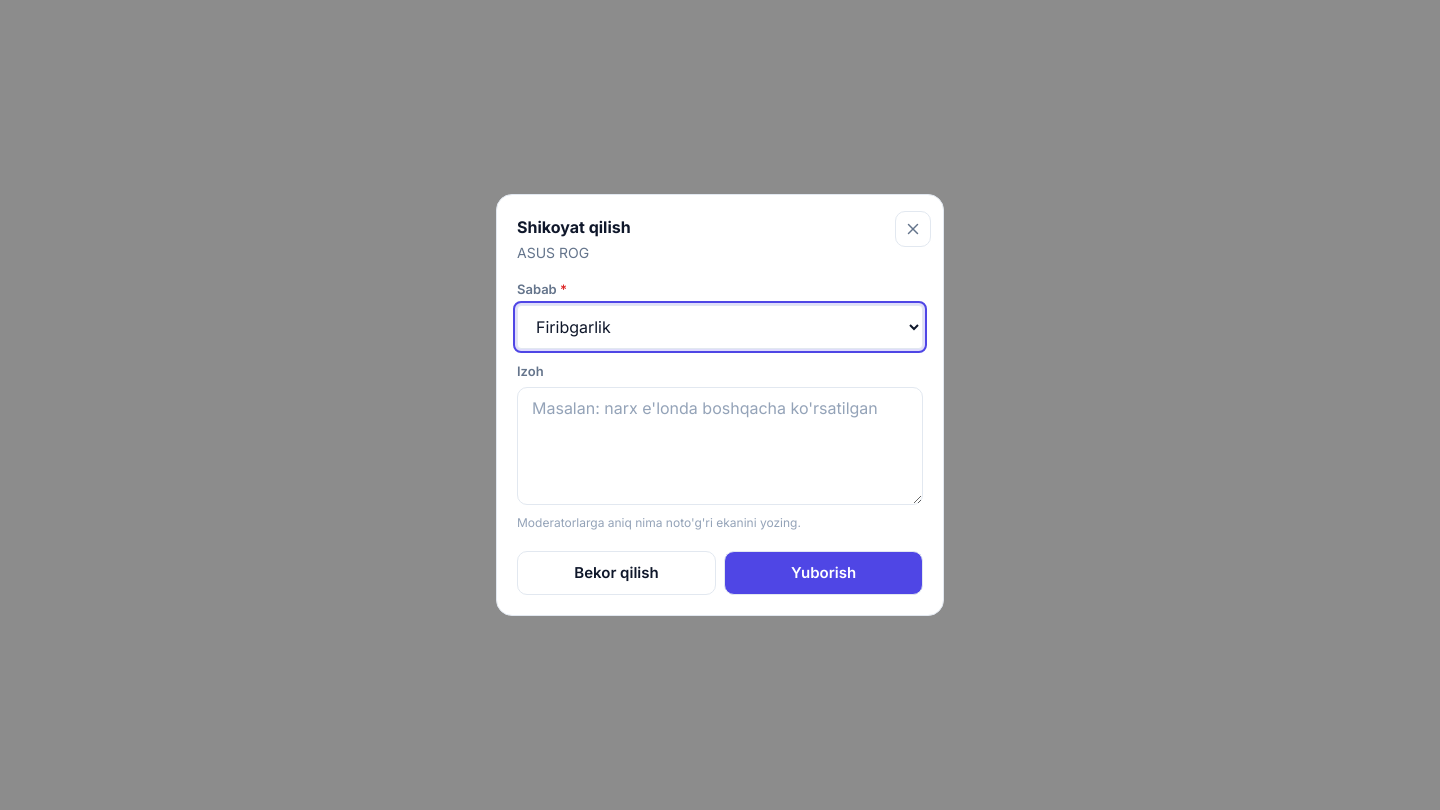
Test: ReportModal › "Boshqa" sababida izoh majburiy
The image size is (1440, 810).
Step 1. Select "Boshqa" in the dropdown → (720, 327), box top-left (517, 305), bottom-right (923, 349)
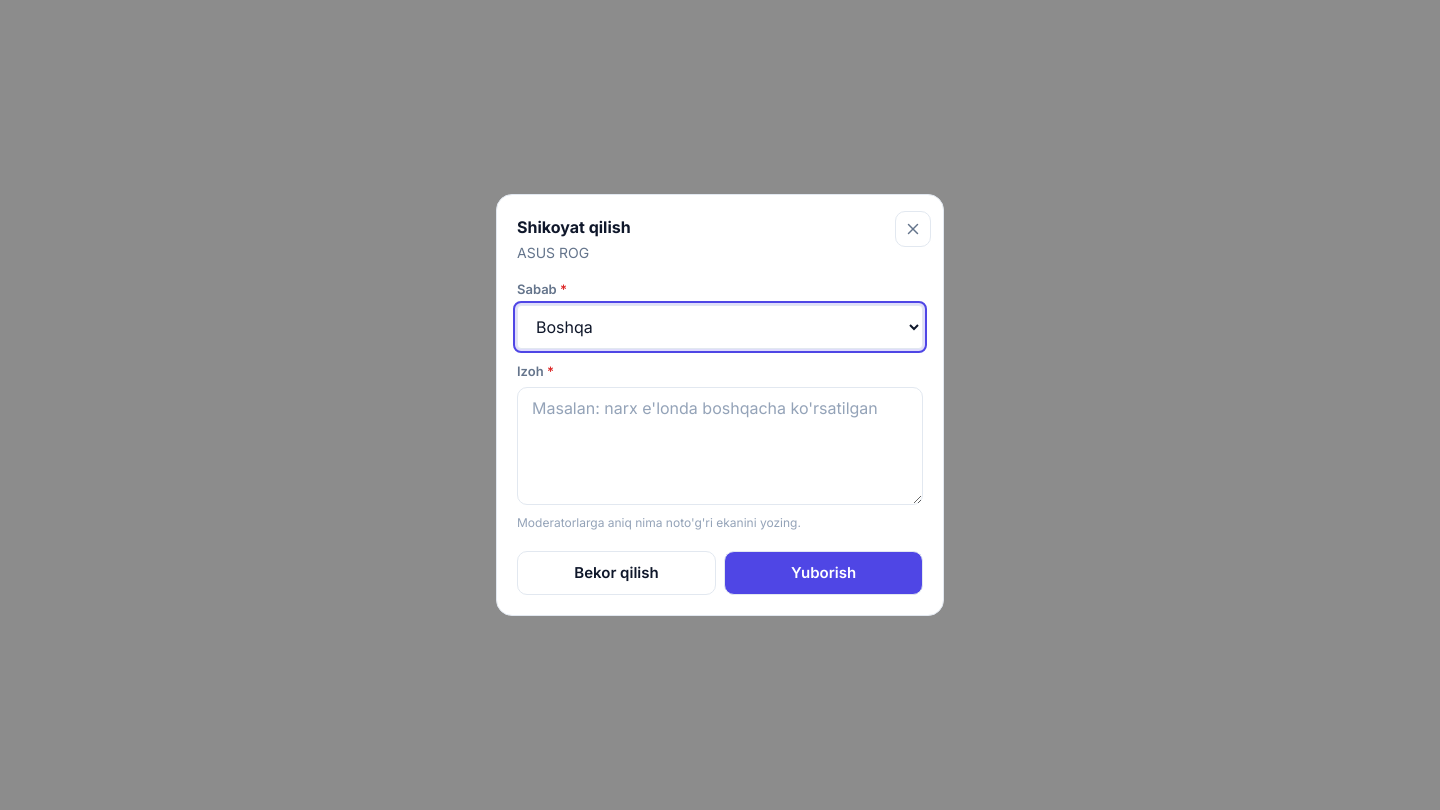
Step 2. Click the button "Yuborish" → (824, 573), box top-left (724, 551), bottom-right (923, 595)
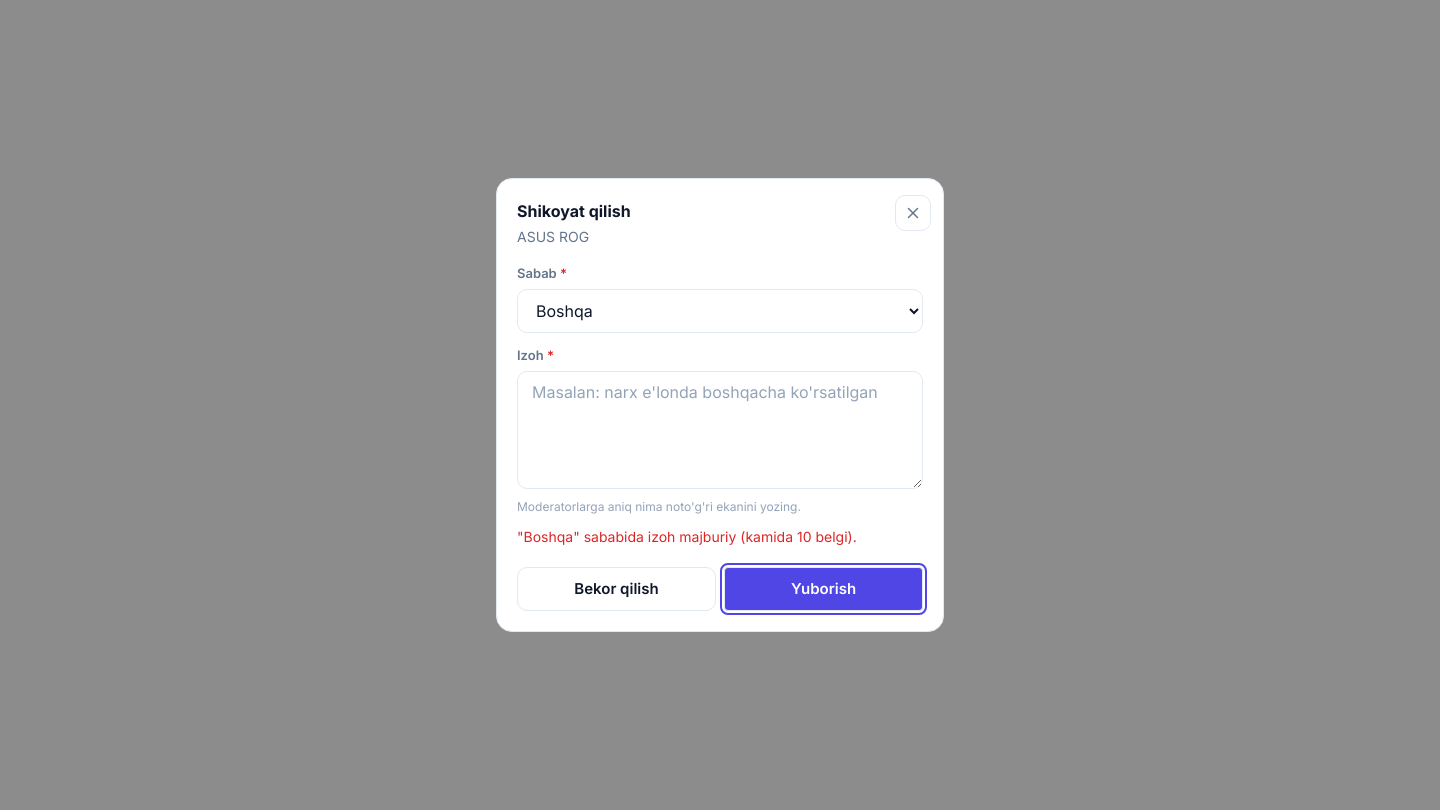
Check: the message shows "izoh majburiy", box top-left (517, 528), bottom-right (857, 545)
